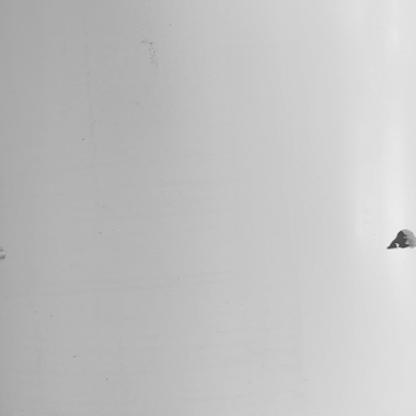kongdong: (379, 222, 416, 256)
